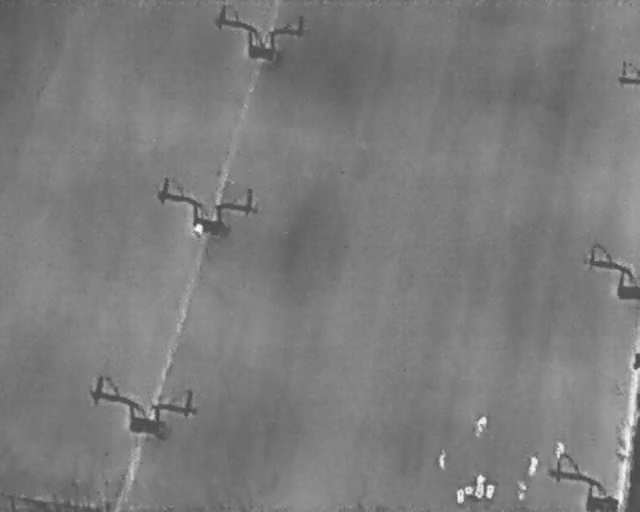Person: (522, 452, 542, 479), (473, 413, 489, 441), (553, 438, 566, 460), (483, 483, 498, 501), (516, 481, 529, 501), (437, 449, 447, 470), (455, 488, 466, 504), (474, 485, 485, 500), (194, 222, 204, 238), (475, 472, 487, 485), (464, 486, 474, 496)
